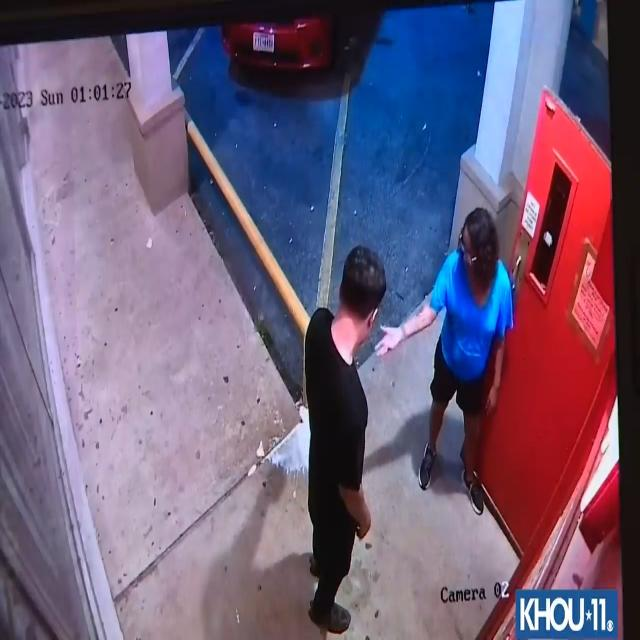Person: (382, 198, 511, 516), (305, 240, 382, 640)
